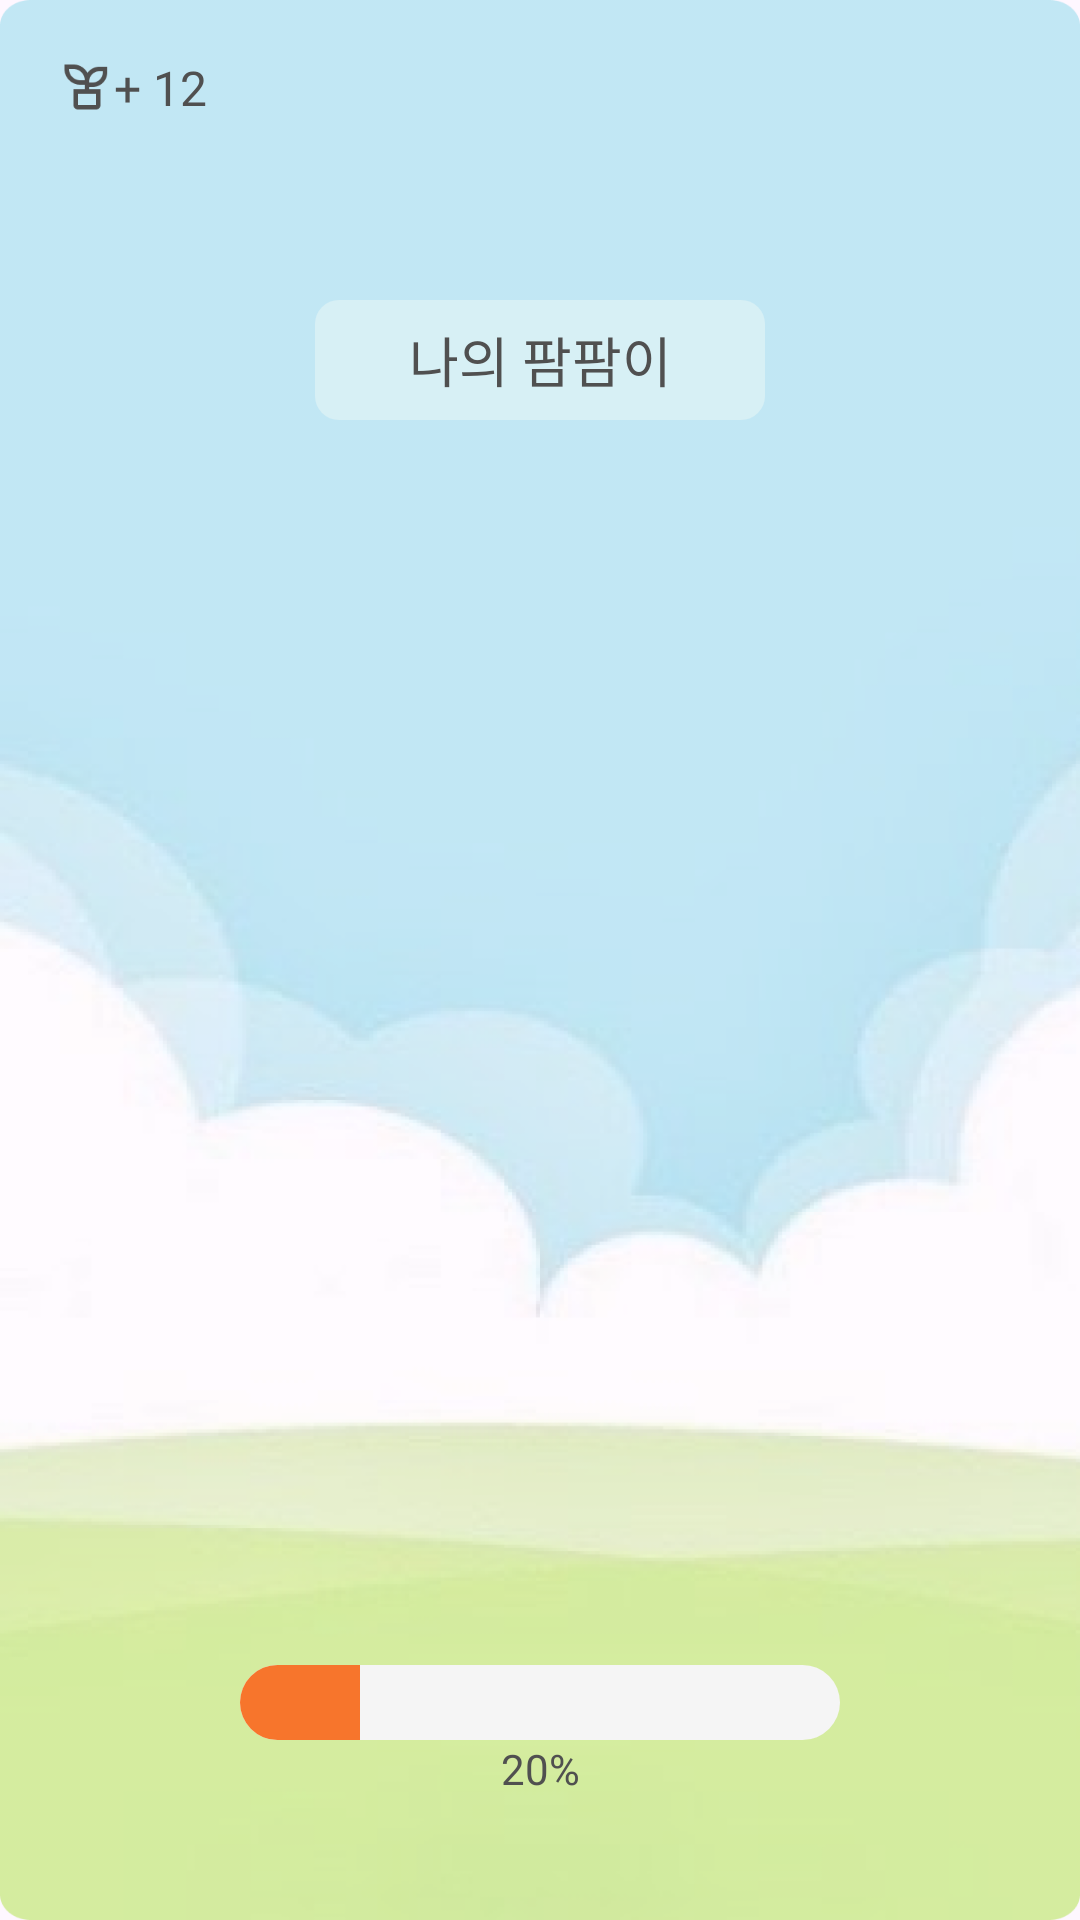

Named icons in this screenshot (1080×1920) and their bounding boxes, (x1,y1,x2,y2):
plant pot: (64,64,108,110)
